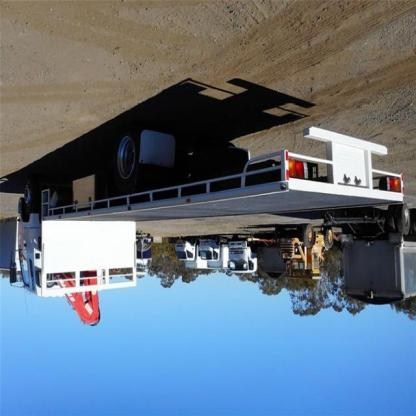truck: (18, 100, 406, 330)
